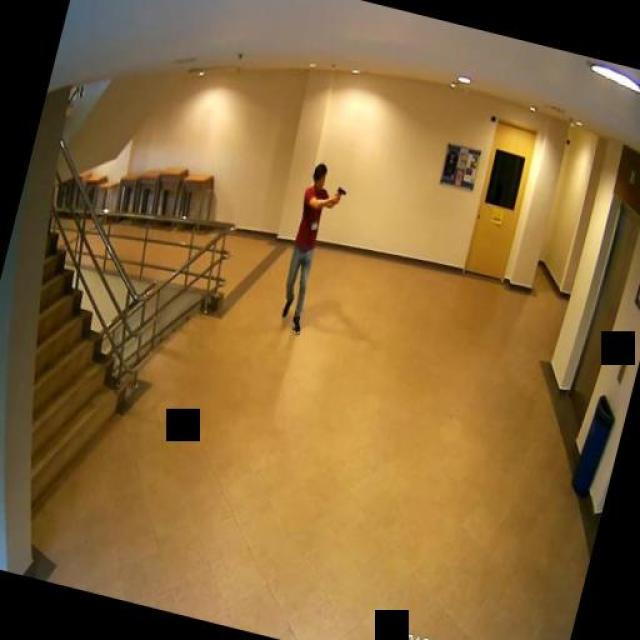gun: (333, 182, 348, 202)
